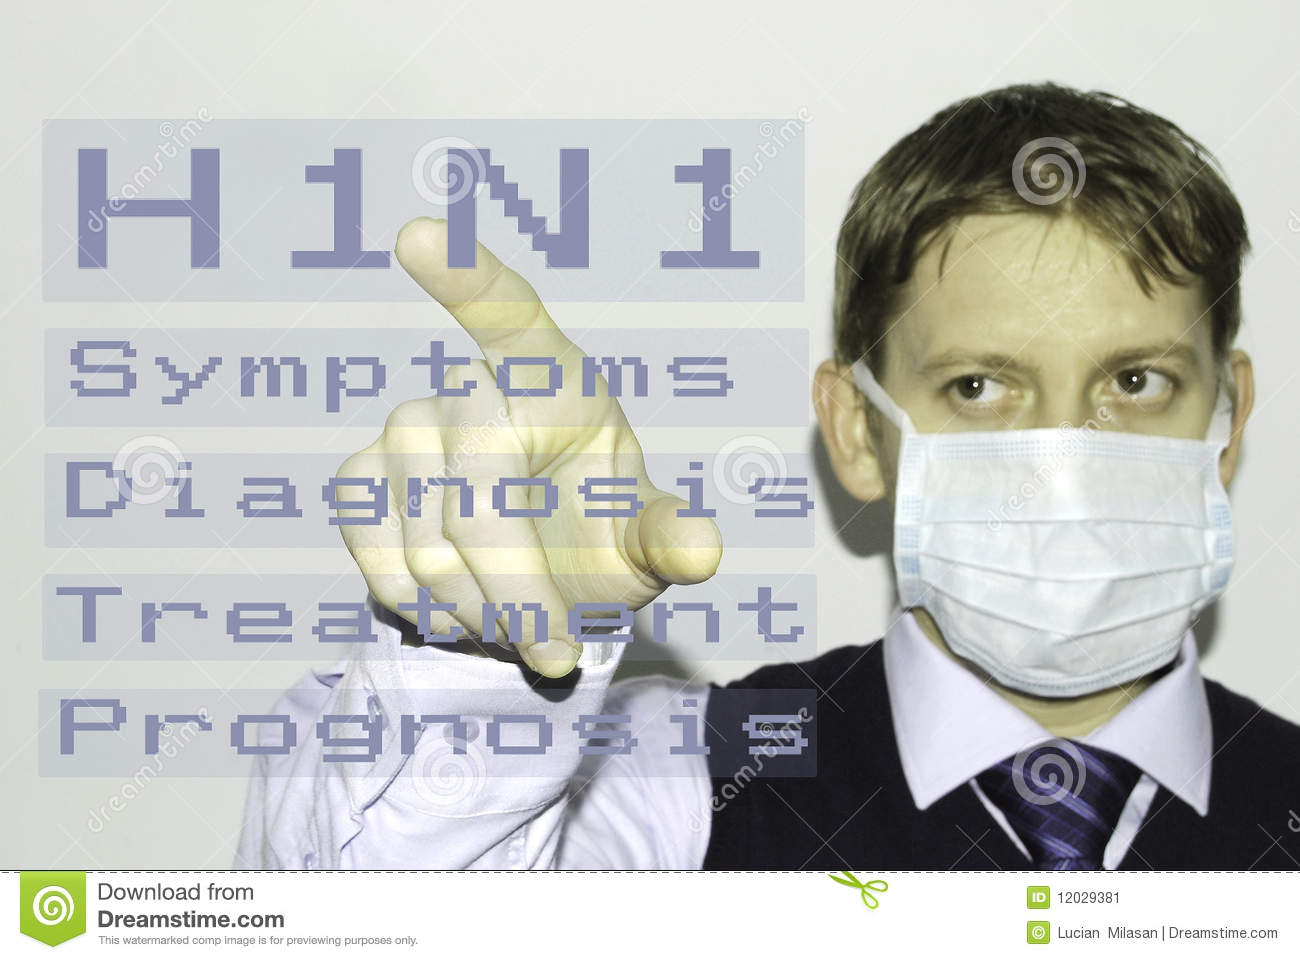mask: (893, 435, 1233, 710)
